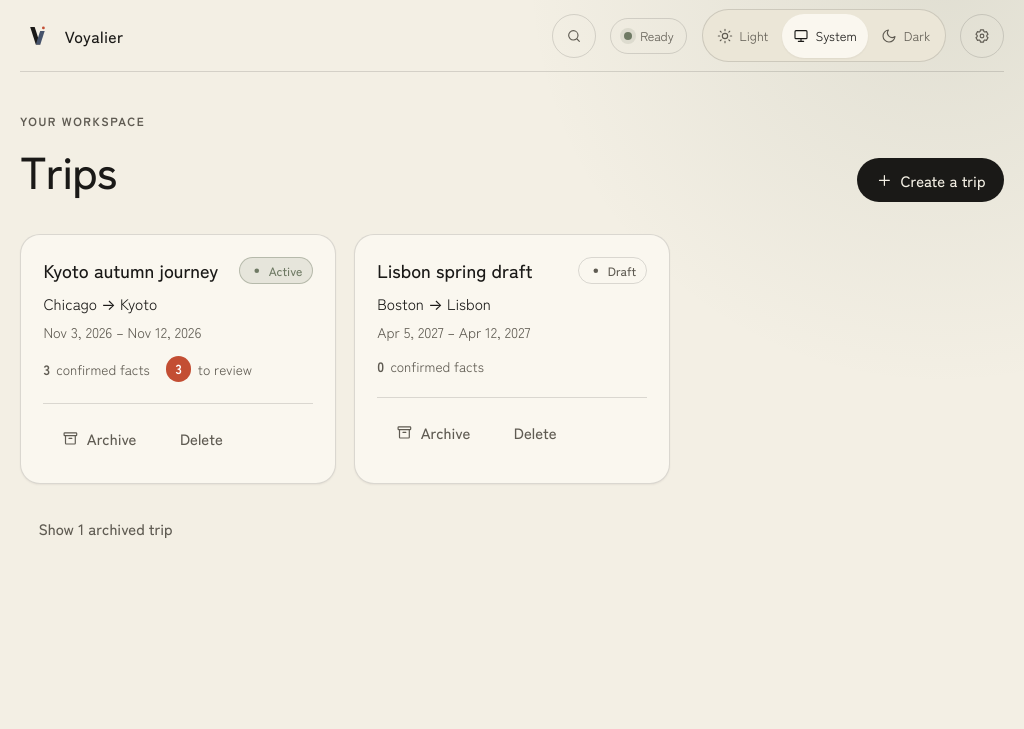
Today panel › labels same-title evidence and plans independently in en
The width and height of the screenshot is (1024, 729).
What coordinates should you click on to do the following:
click the button with aria-label "Open Kyoto autumn journey"
I would click on:
 (131, 270)
Its box is [43,257,218,283].
(page scrolled)
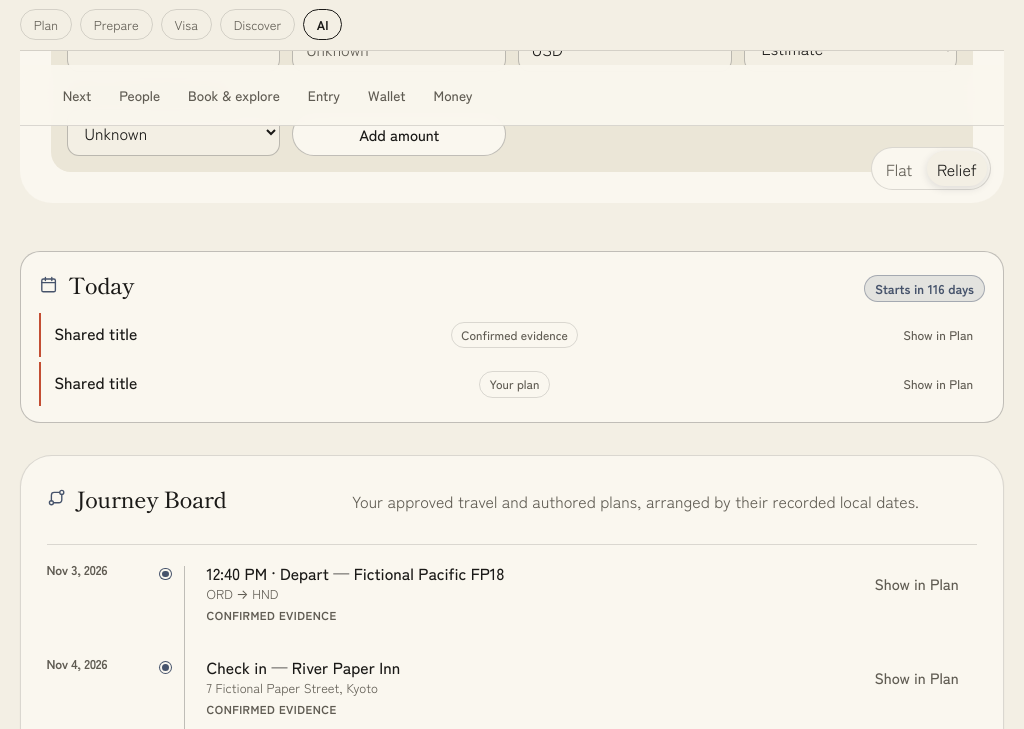
Expected: the 1st text "Confirmed evidence" is shown, [451,322,578,348]
Expected: the text "Your plan" is shown, [479,371,550,398]
Expected: the text "Shared title" is shown 2 times, [54,321,137,345]; [54,370,137,394]
